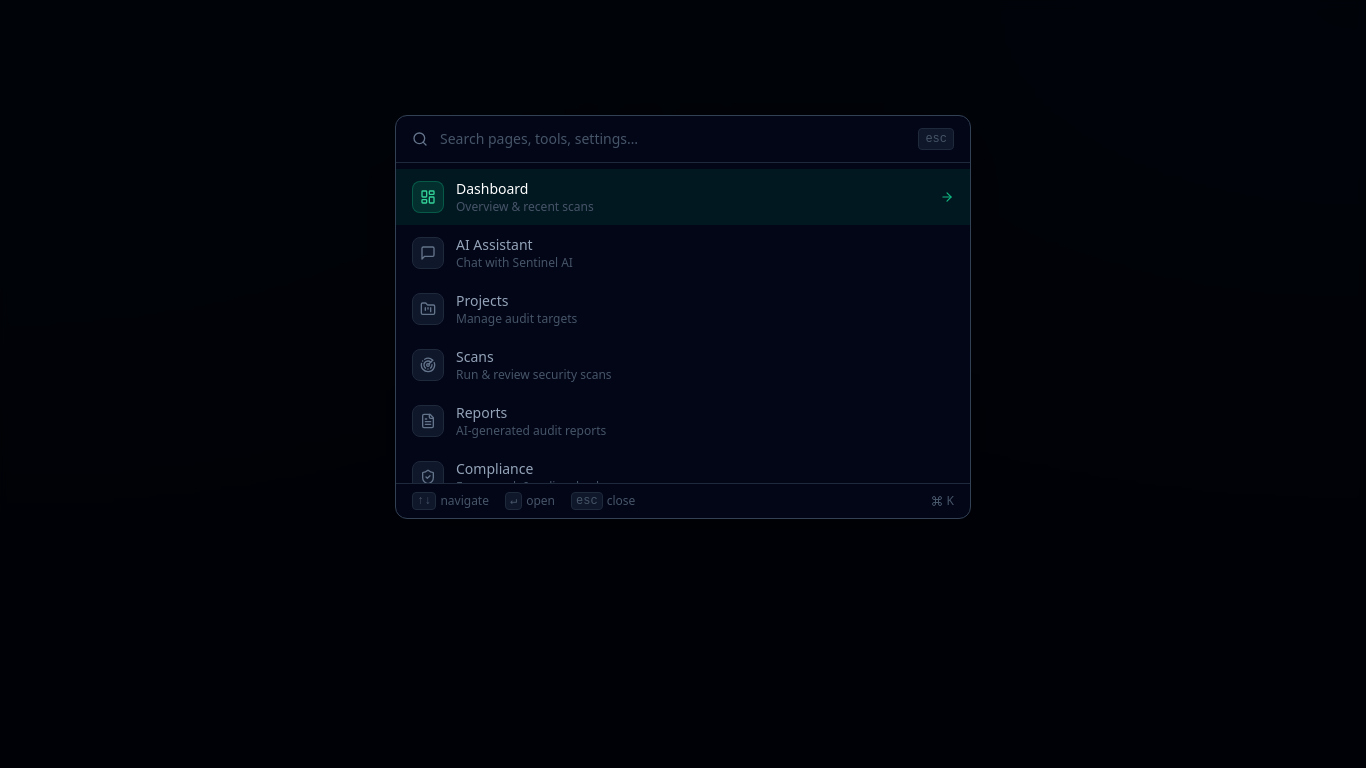
Test: CommandPalette — filtering › can filter by description text
Type "preferences" into the field with placeholder "Search pages, tools, settings…".
click(673, 139); type("preferences")  # box [440,129,906,149]
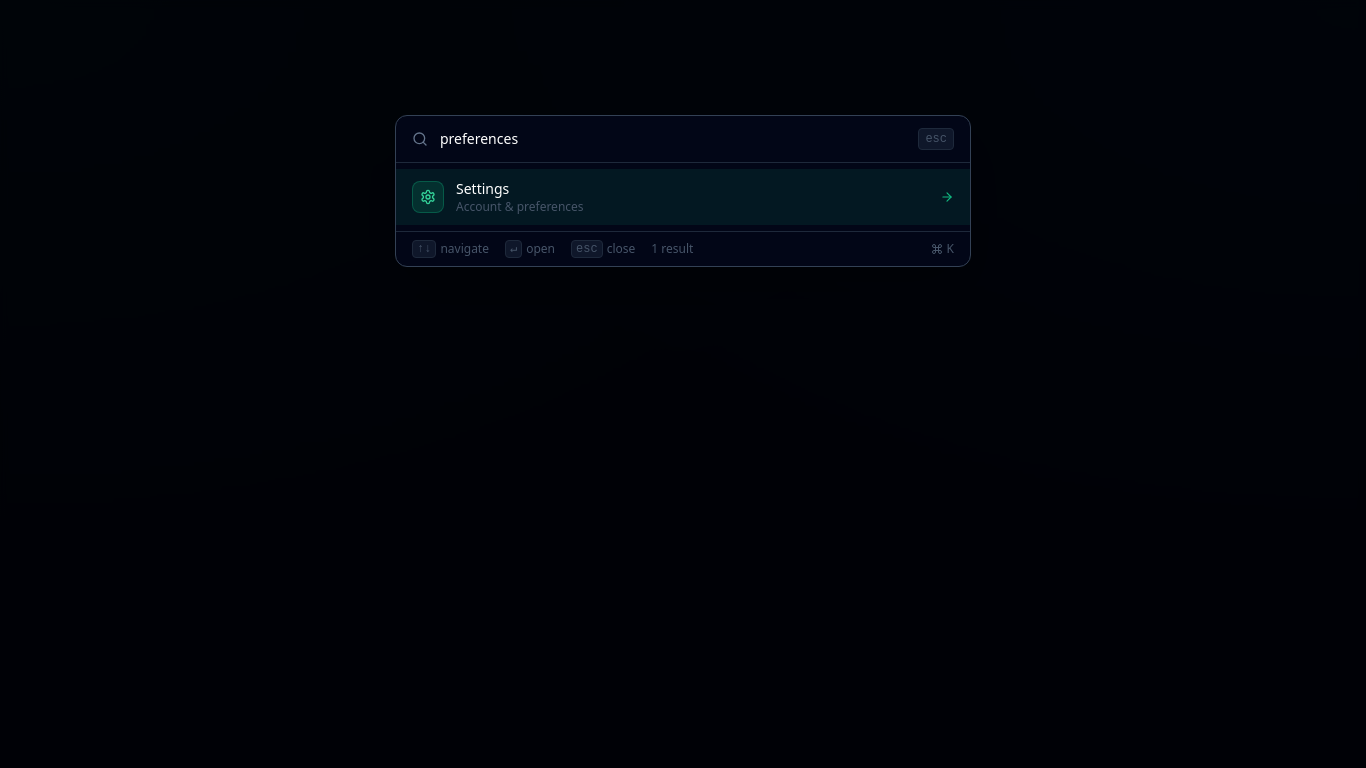
Check: the text "Settings" is shown, box [456,179,509,198]
Check: the button "Dashboard" is gone
